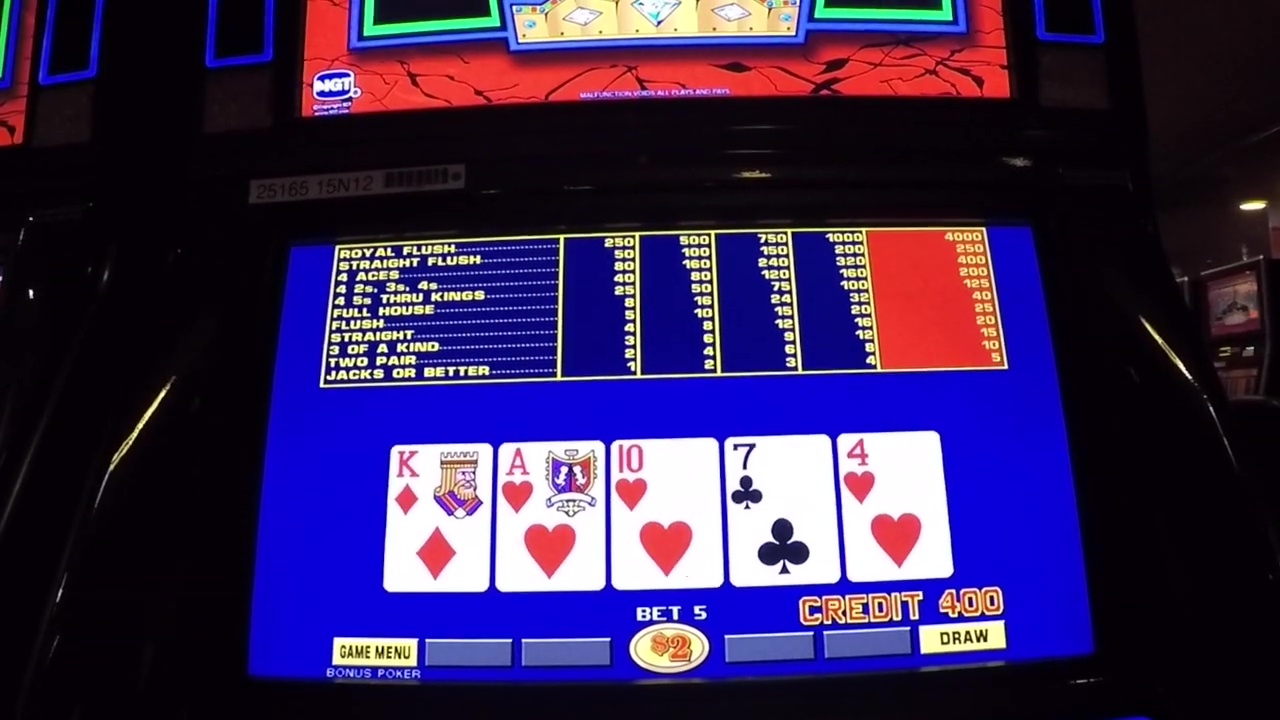C7: (727, 437, 831, 517)
DK: (392, 447, 490, 525)
H4: (844, 433, 940, 516)
HA: (498, 442, 606, 522)
HT: (611, 441, 717, 519)
